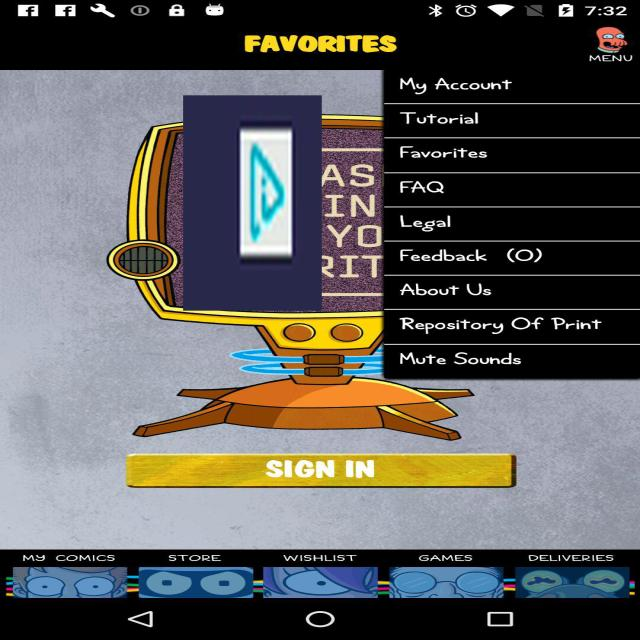sneaking: (183, 95, 322, 311)
